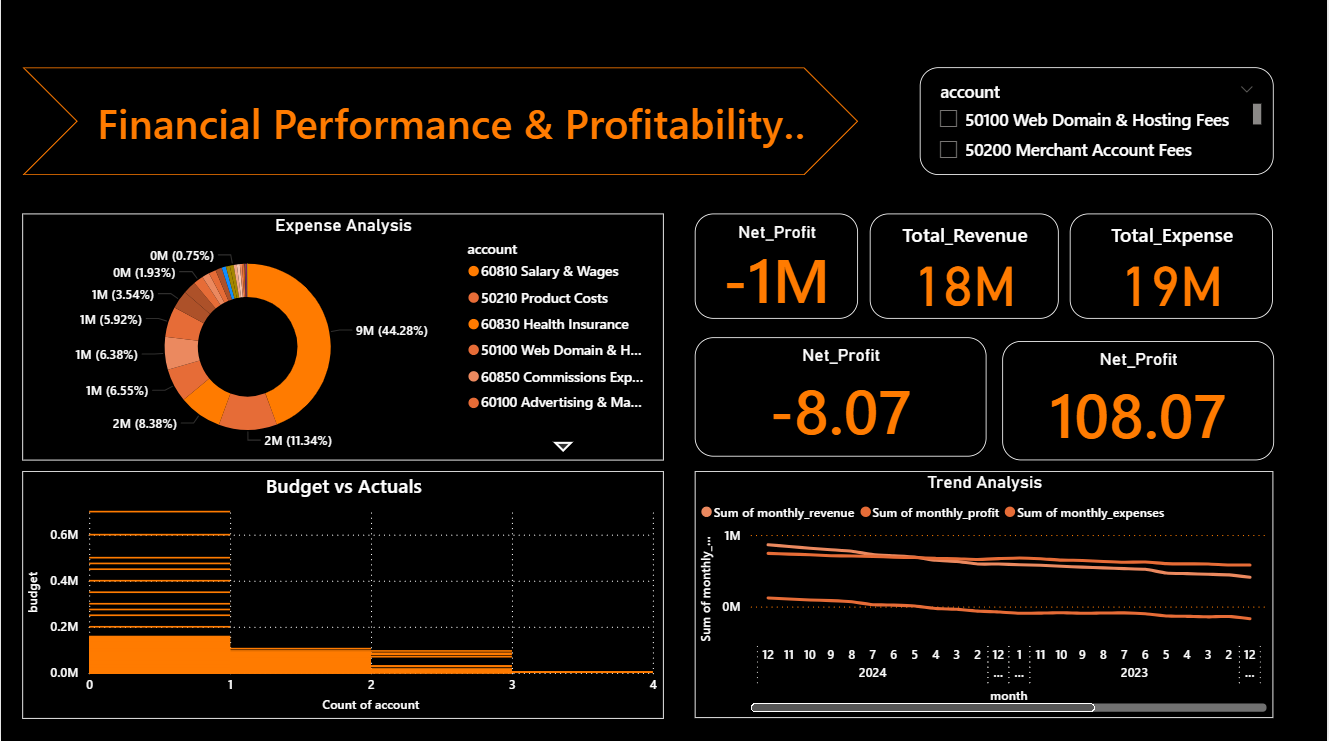

The page's visual inventory and layout, read from the dashboard file:
{"tool":"powerbi","page":{"name":"Page 1","canvas":[1280,720],"ordinal":0},"visuals":[{"type":"card","title":"Total_Revenue","fields":{"Values":["Sum(Revenue&Profit Overview.total_revenue)"]},"box":[838.4,209.9,182.5,101.5],"z":0},{"type":"card","title":"Total_Expense","fields":{"Values":["Sum(Revenue&Profit Overview.total_expenses)"]},"box":[1031.9,209.9,196.2,101.5],"z":1},{"type":"card","title":"Net_Profit","fields":{"Values":["Sum(Revenue&Profit Overview.net_profit)"]},"box":[669.6,209.9,157.8,101.5],"z":2},{"type":"donutChart","title":"Expense Analysis","fields":{"Category":["Expense Analysis.account"],"Y":["Sum(Expense Analysis.total_expense)"]},"box":[20.6,209.9,618.9,238.8],"z":3},{"type":"clusteredBarChart","title":"Budget vs Actuals","fields":{"Y":["CountNonNull(Budget vs Actuals.account)"],"Category":["Budget vs Actuals.budget","Budget vs Actuals.actual_amount"]},"box":[21,459,619,239],"z":4},{"type":"lineChart","title":"Trend Analysis","fields":{"Category":["YOY sales.year","YOY sales.month"],"Y":["Sum(YOY sales.monthly_revenue)","Sum(YOY sales.monthly_profit)","Sum(YOY sales.monthly_expenses)"]},"box":[669.6,458.3,558.5,238.8],"z":5},{"type":"card","title":"Net_Profit","fields":{"Values":["Sum(Financial Ratios.profit_margin_percentage)"]},"box":[669.6,329.3,281.3,115.3],"z":6},{"type":"card","title":"Net_Profit","fields":{"Values":["Sum(Financial Ratios.expense_ratio_percentage)"]},"box":[966,333.4,262.1,115.3],"z":7},{"type":"shape","box":[20.6,68.6,806.9,104.3],"z":8},{"type":"slicer","fields":{"Values":["Expense Analysis.account"]},"box":[886.5,68.6,341.7,104.3],"z":9}]}

Visuals, with their boxes in screenshot pixels (x1, y1, x2, y2), scaled from the page's 1280x720 canvas onto the 1329x741 screenshot:
"Total_Revenue" card: [870, 216, 1060, 320]
"Total_Expense" card: [1071, 216, 1275, 320]
"Net_Profit" card: [695, 216, 859, 320]
"Expense Analysis" donutChart: [21, 216, 664, 462]
"Budget vs Actuals" clusteredBarChart: [22, 472, 664, 718]
"Trend Analysis" lineChart: [695, 472, 1275, 717]
"Net_Profit" card: [695, 339, 987, 458]
"Net_Profit" card: [1003, 343, 1275, 462]
shape: [21, 71, 859, 178]
slicer - Expense Analysis.account: [920, 71, 1275, 178]
